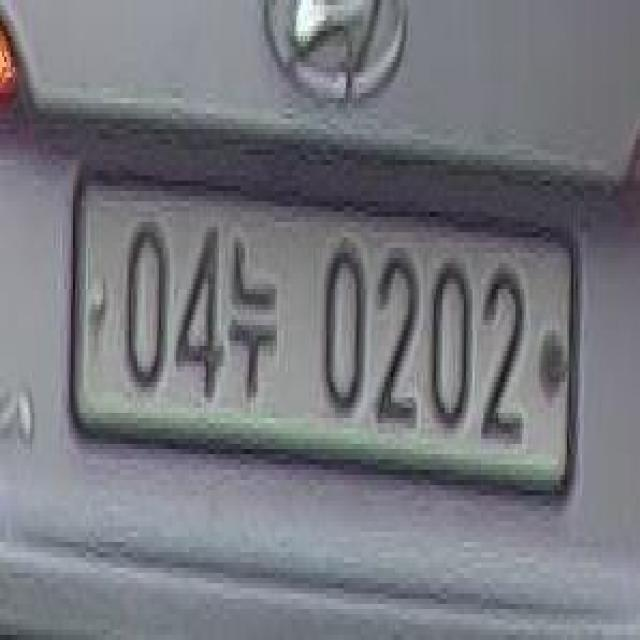illegal_plate: (73, 159, 580, 527)
